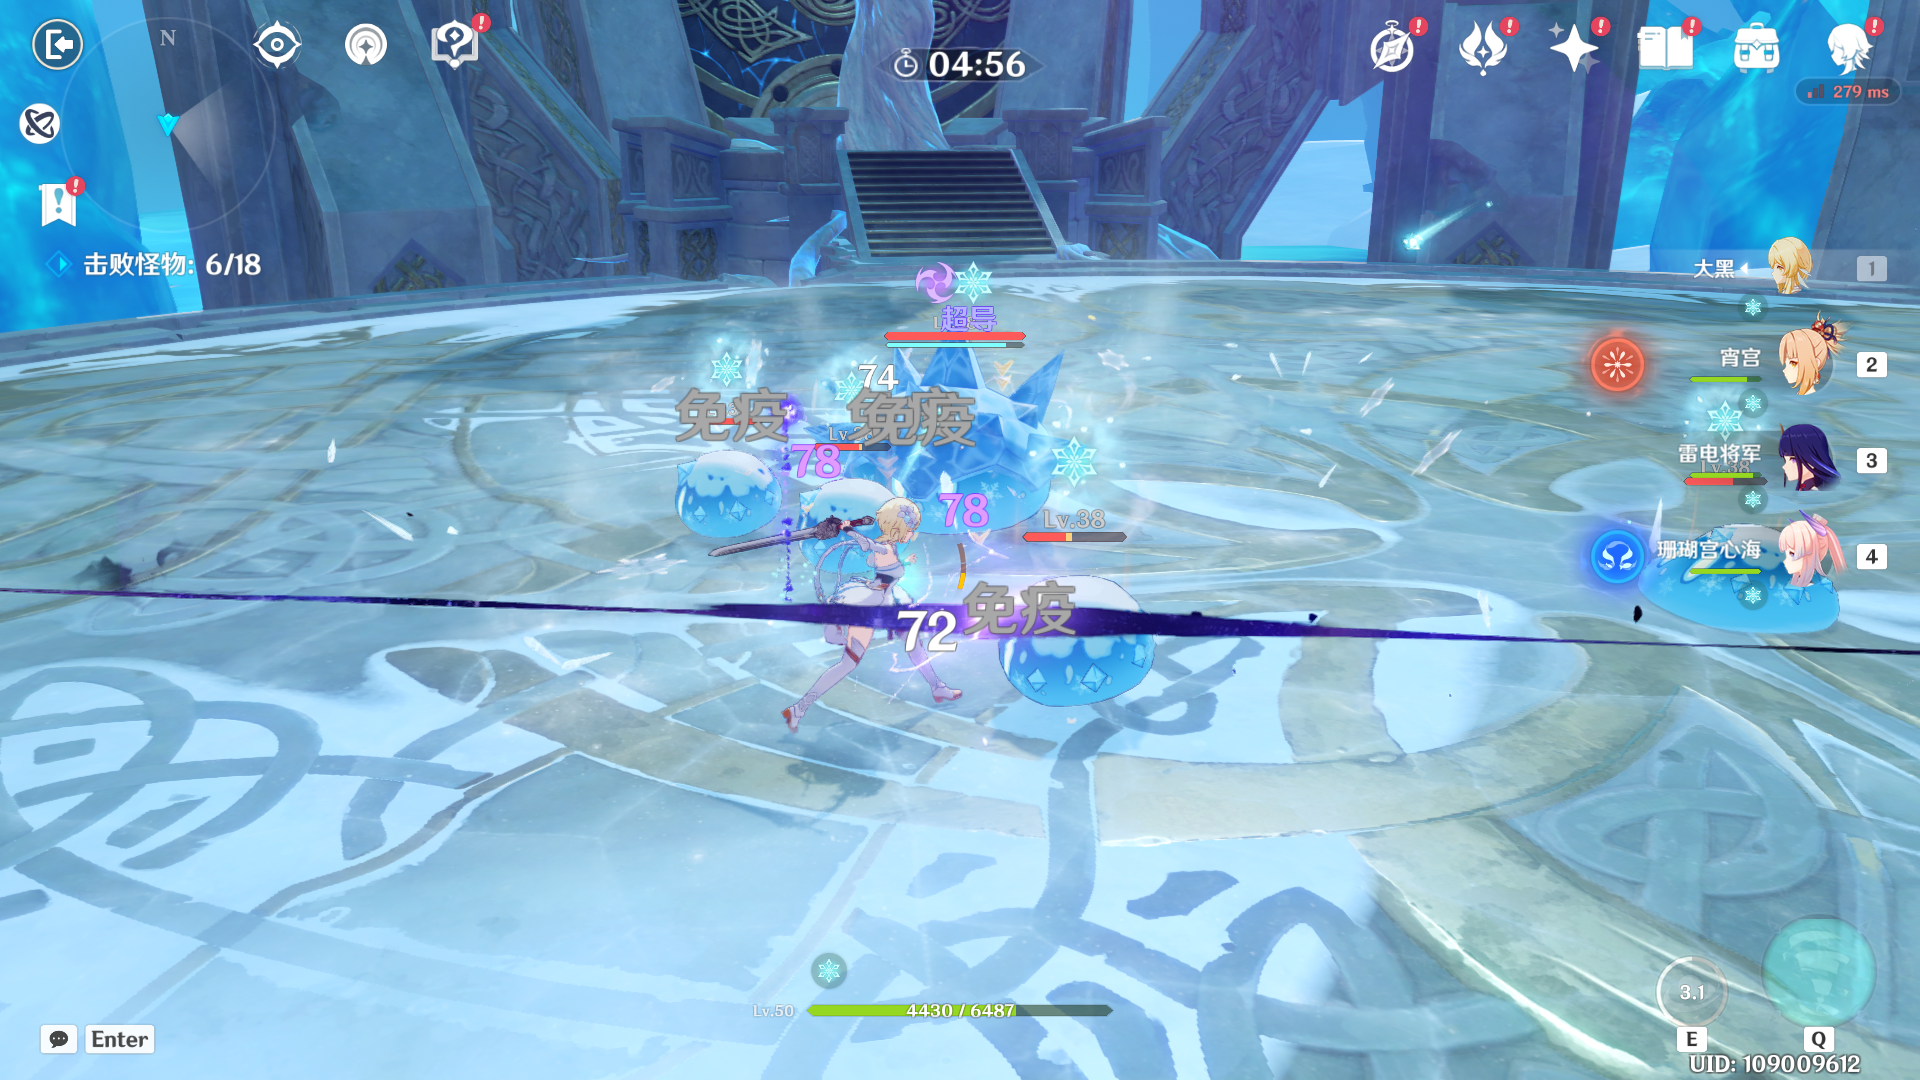character: (769, 480, 988, 764)
slime: (804, 338, 1104, 568), (988, 531, 1184, 745), (791, 463, 930, 578), (650, 439, 786, 553)
